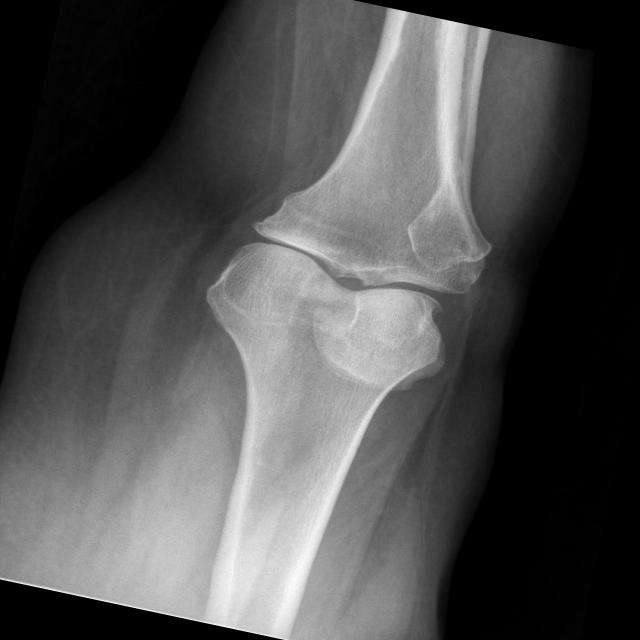Knee: (191, 157, 498, 396)
